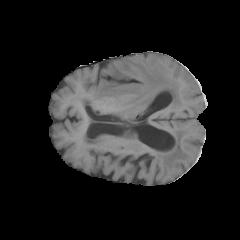glioma: (70, 59, 185, 116)
